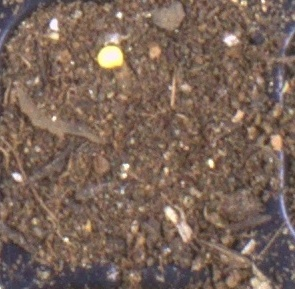chilli seed: (97, 45, 124, 69)
